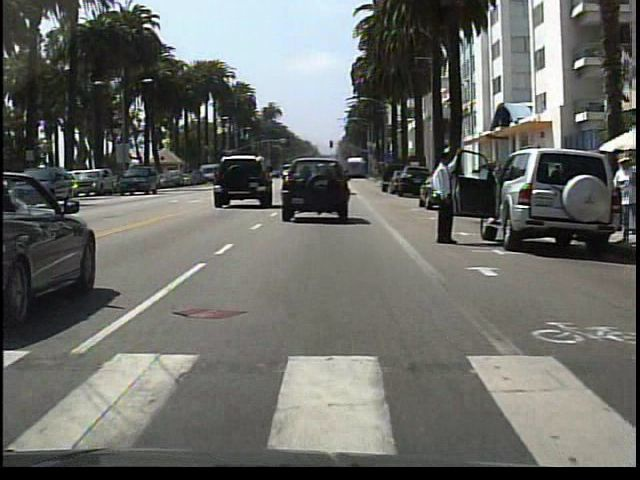person: (423, 143, 464, 254)
